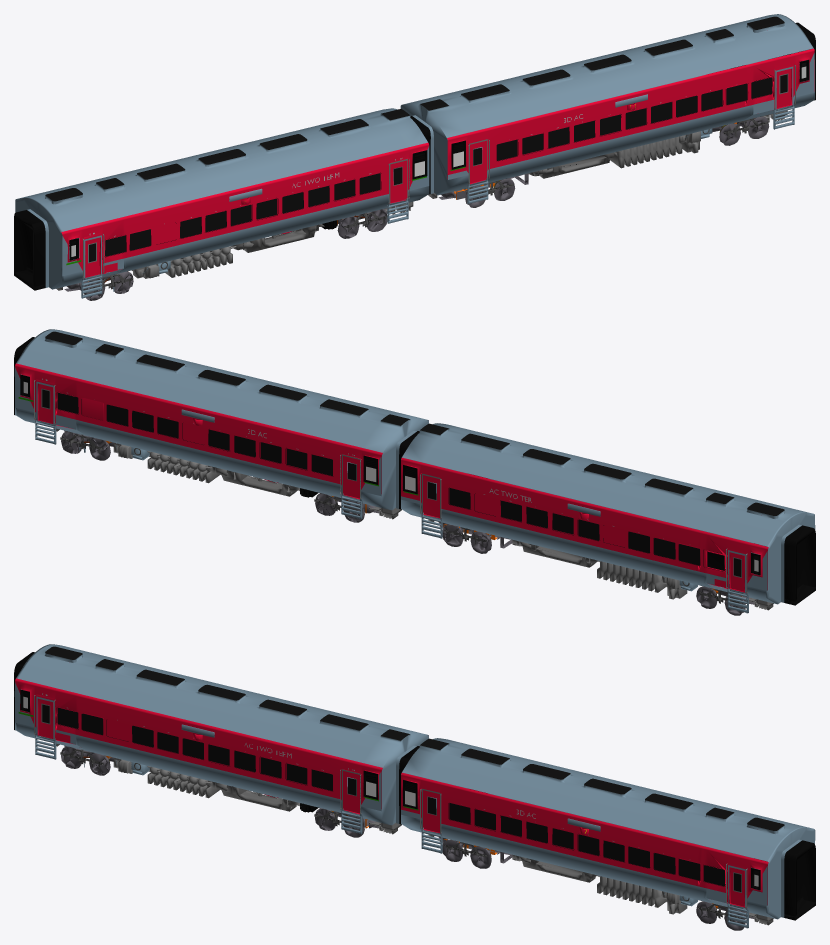
Rendered from lhb_light.glb.
3 renders of one model, top to bottom at view 1: azimuth 30°, elevation 25°; view 2: azimuth 150°, elevation 25°; view 3: azimuth 330°, elevation 25°, orthographic.
Parts seen in each view (by area): view 1: lhb; view 2: lhb; view 3: lhb.
Boxes of the visible parts, x1,y1,x2,y2 form: lhb: (14, 14, 815, 300); lhb: (14, 329, 815, 615); lhb: (14, 644, 815, 930).
Bounding box in the file's own units: 25.6 × 3.22 × 2.95.
